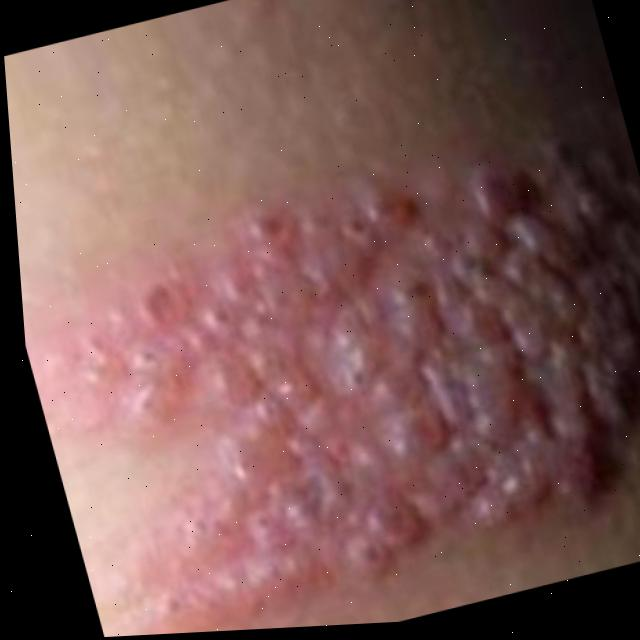Shingles: (10, 107, 640, 640)
